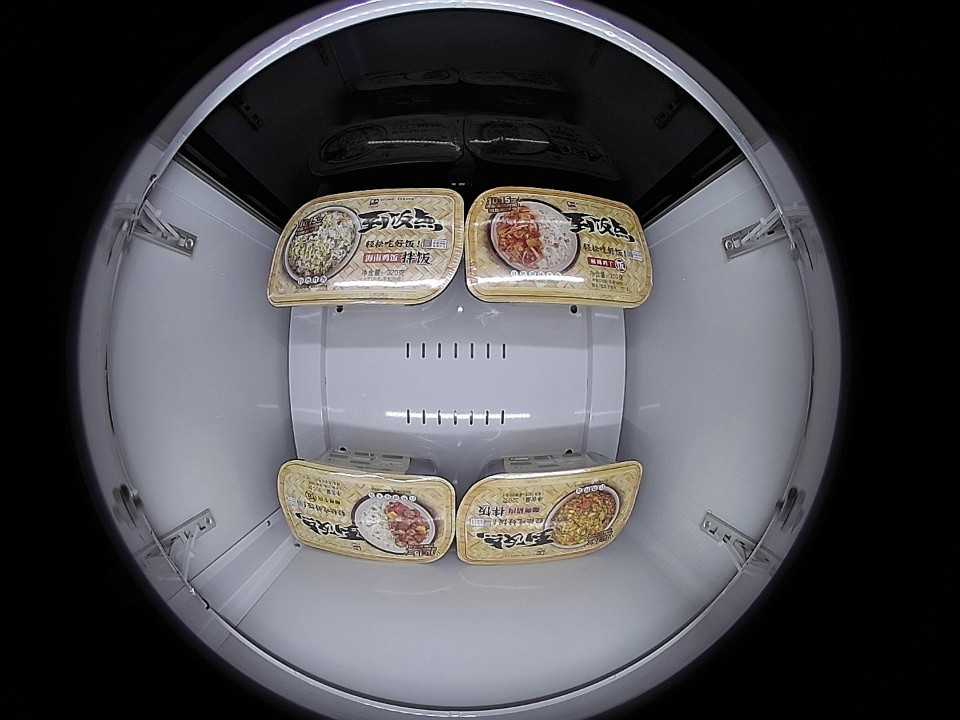daofandian1: (266, 187, 466, 307)
daofandian2: (276, 458, 457, 564)
daofandian3: (455, 455, 643, 565)
daofandian4: (464, 186, 654, 307)
